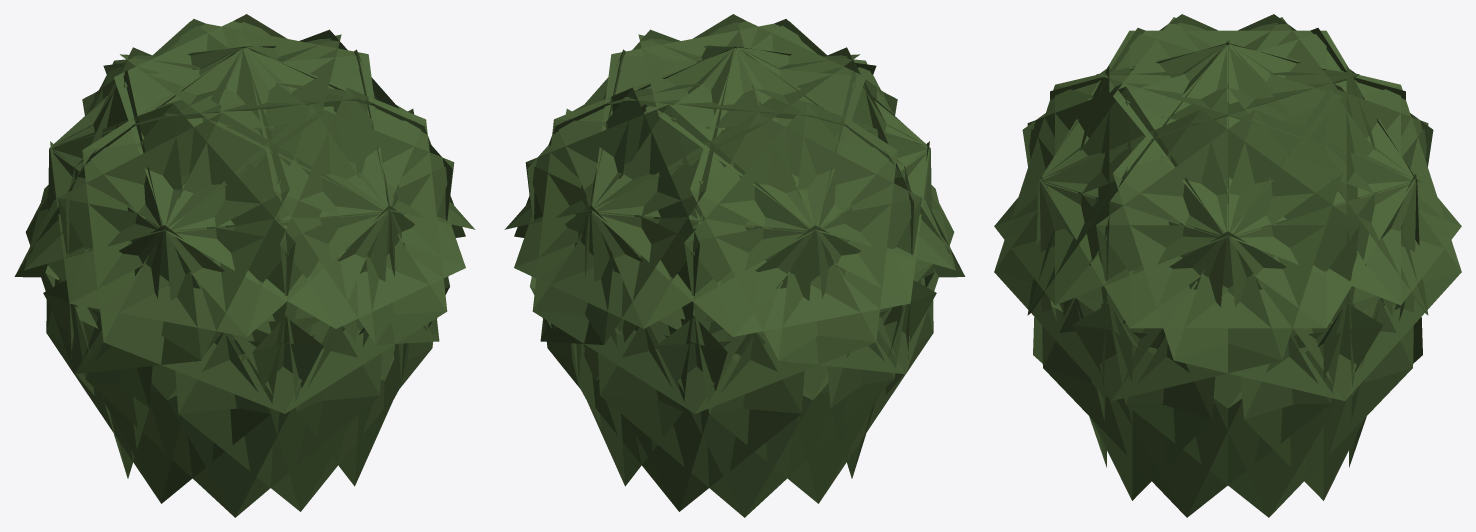
Rendered from grass.obj.
The picture shows the model from 3 angles, left to right: view 1: azimuth 30°, elevation 25°; view 2: azimuth 150°, elevation 25°; view 3: azimuth 270°, elevation 25°; orthographic projection.
Visible parts, largest first — view 1: Icosphere; view 2: Icosphere; view 3: Icosphere.
Boxes of the visible parts, bbox=[...] form: Icosphere: bbox=[14, 14, 475, 517]; Icosphere: bbox=[504, 14, 965, 517]; Icosphere: bbox=[994, 14, 1461, 517].
Size of the model in its own units: 6.83 by 6.99 by 6.96.
